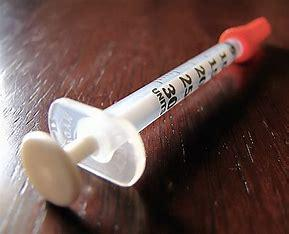Syringe: (20, 13, 226, 212)
